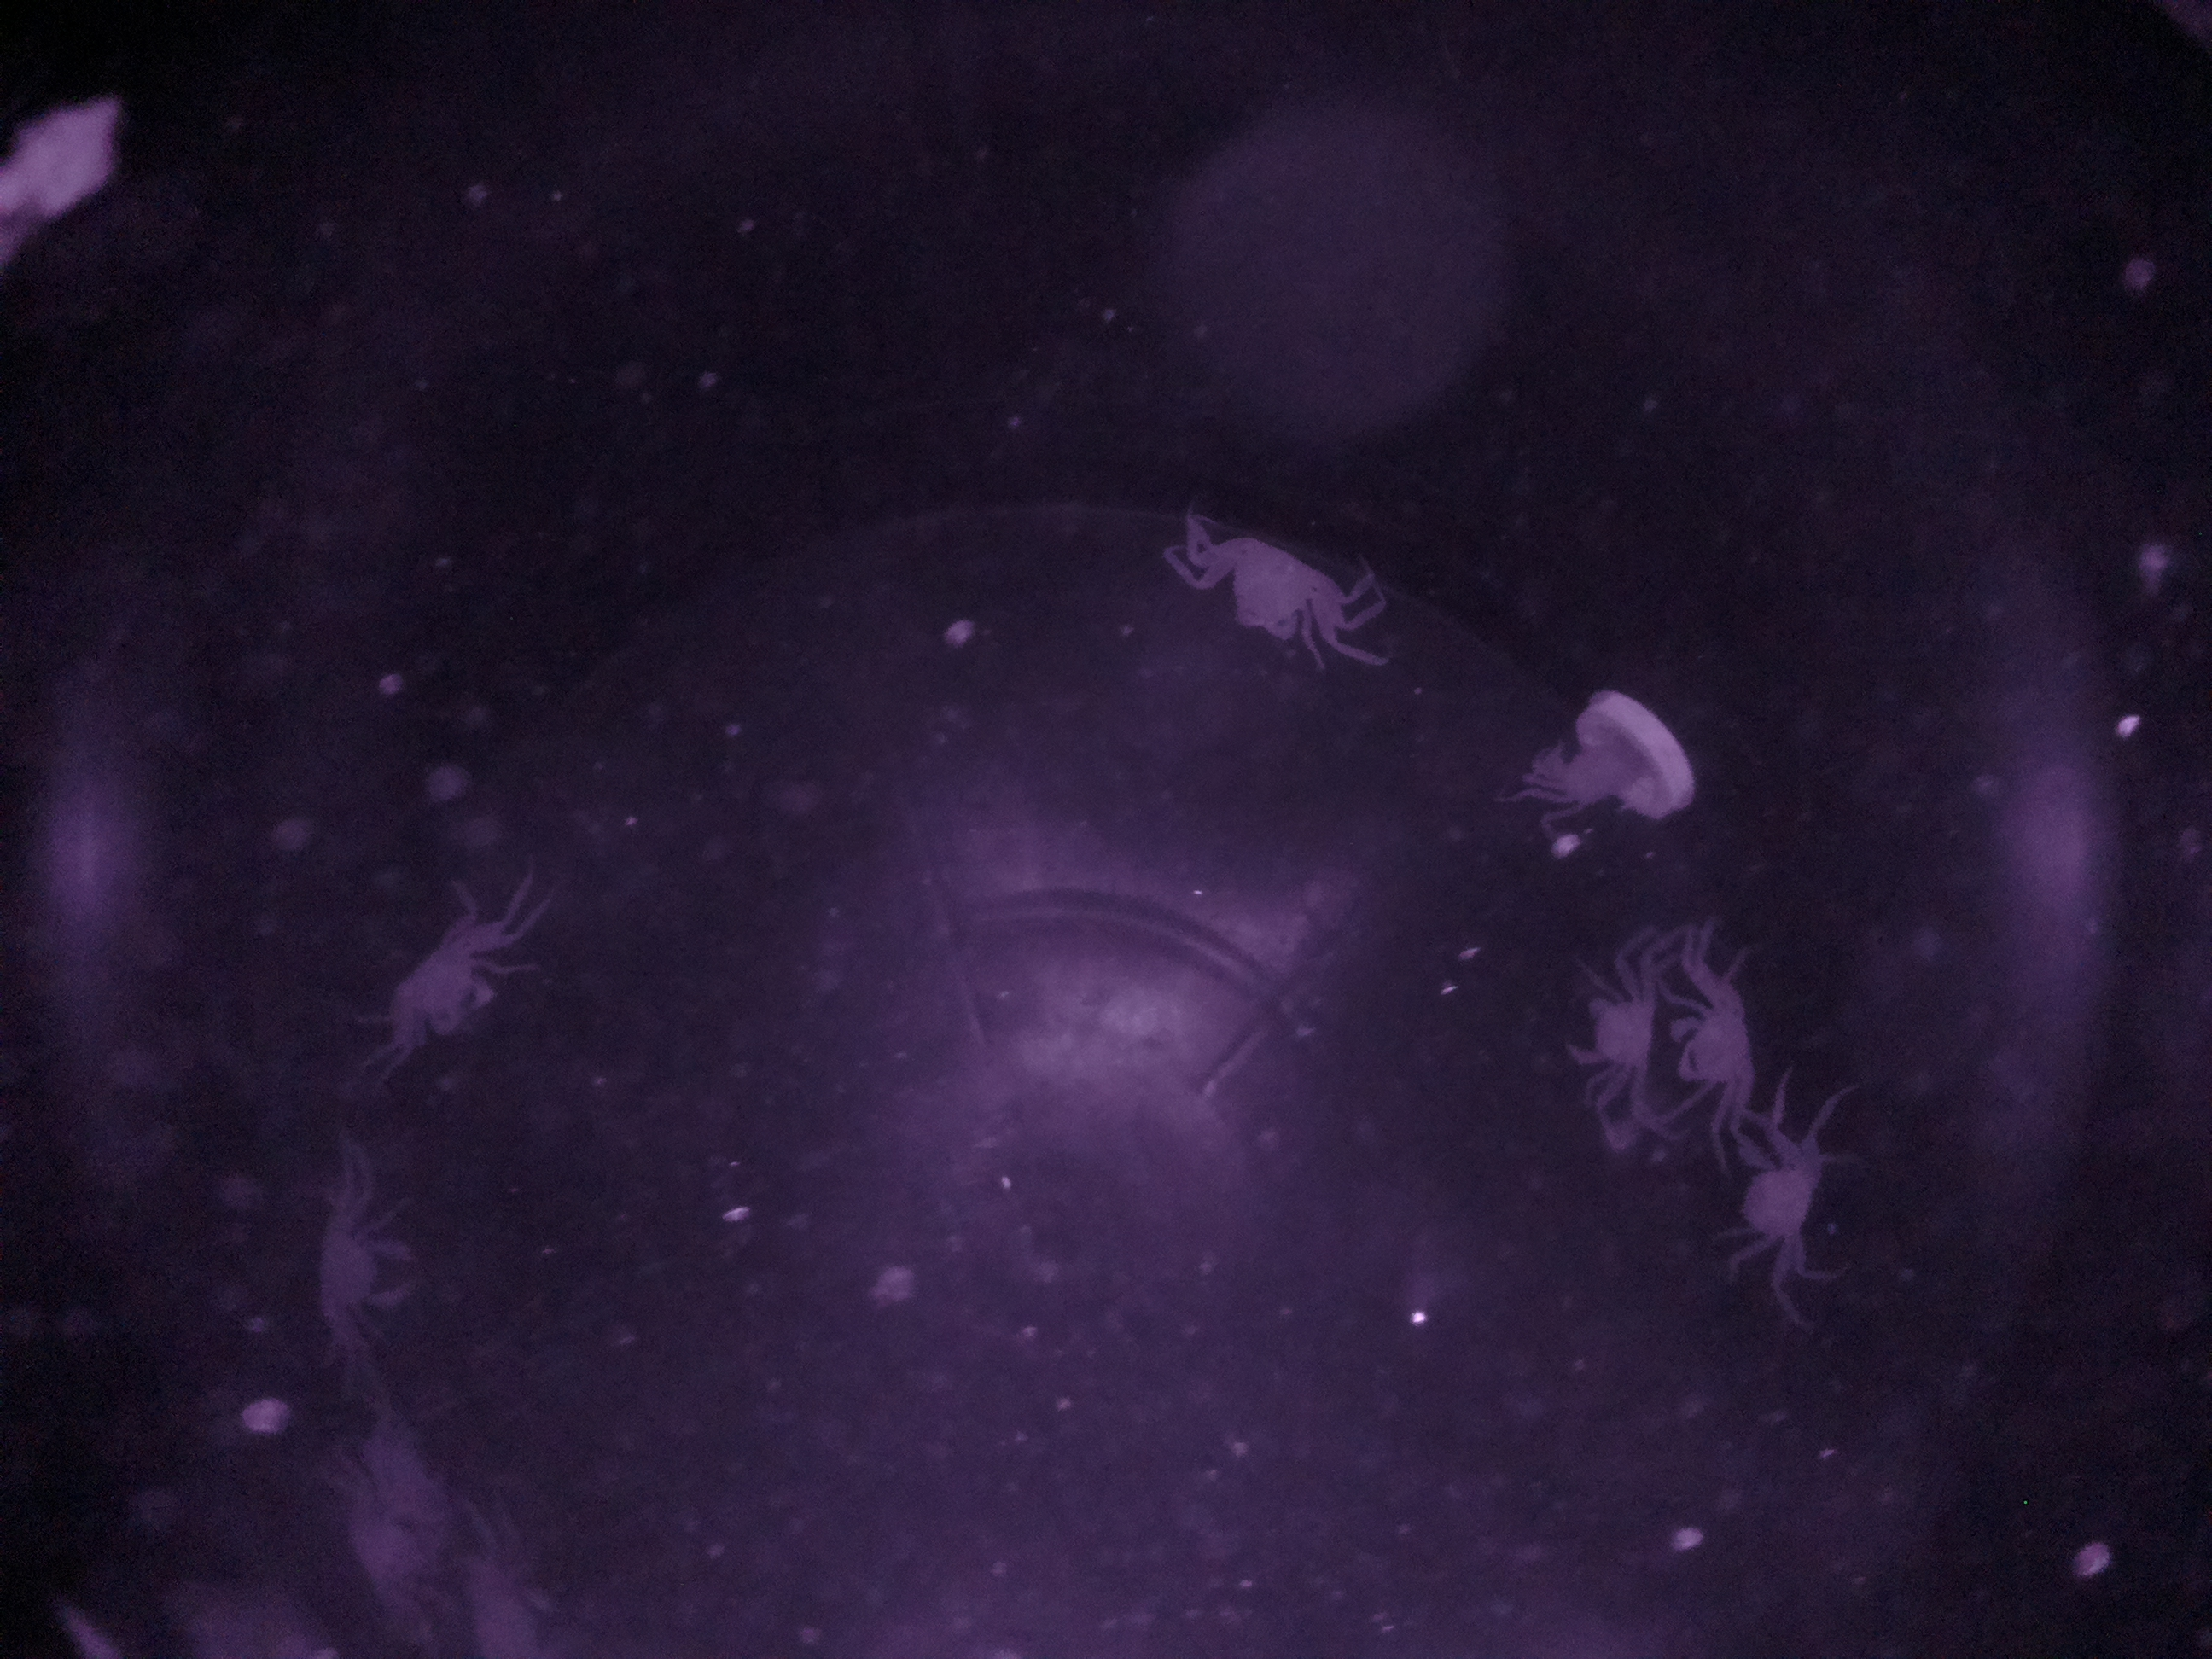Crab: (1696, 1115, 1860, 1307), (362, 884, 521, 1072), (1660, 932, 1785, 1164), (1177, 511, 1364, 664), (1543, 936, 1669, 1121)
